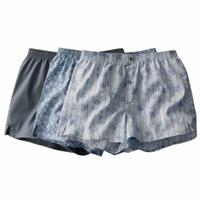mutande: (56, 50, 195, 154), (32, 46, 103, 155), (4, 46, 69, 151), (127, 48, 155, 53), (102, 47, 123, 52)
